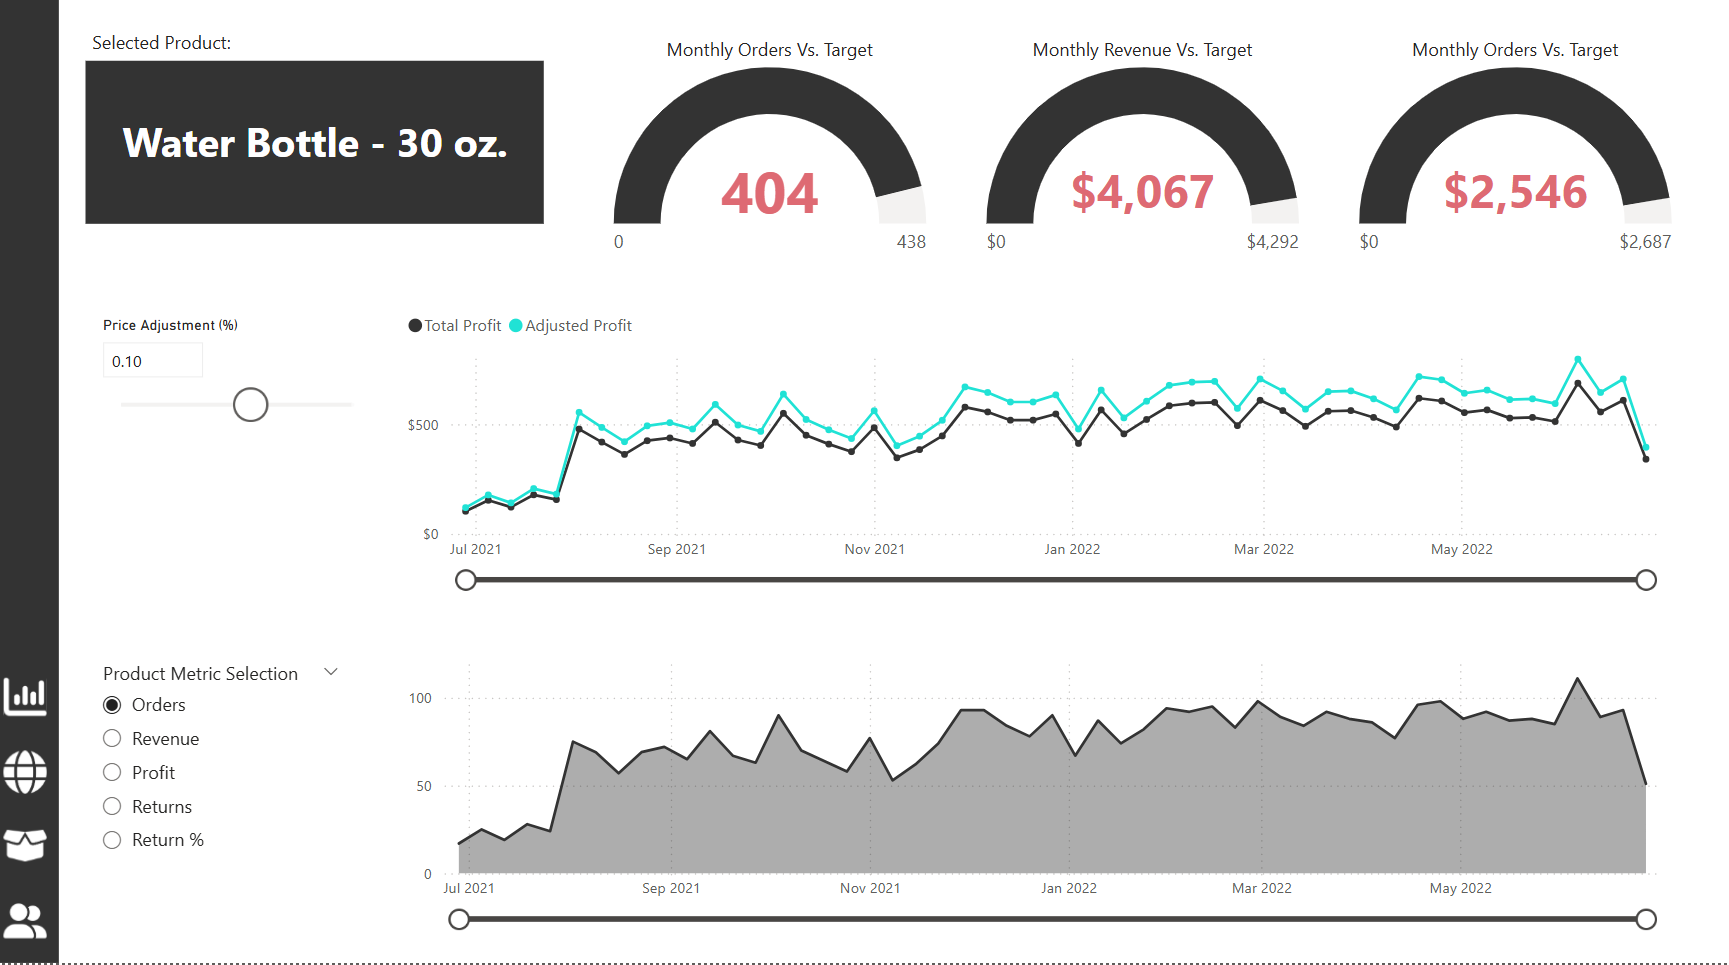

This screenshot's page, from the dashboard's own definition file:
{"tool":"powerbi","page":{"name":"Product Details","canvas":[1280,720],"ordinal":2},"visuals":[{"type":"shape","box":[0,1,45,719],"z":0},{"type":"gauge","title":"Monthly Orders Vs. Target","fields":{"Y":["Measure Table.Total Orders"],"MaxValue":["Measure Table.Order Target"]},"box":[445.5,34.5,251,171],"z":1000},{"type":"actionButton","box":[0,503.4,45.3,40.1],"z":2000},{"type":"gauge","title":"Monthly Orders Vs. Target","fields":{"Y":["Measure Table.Total Profit"],"MaxValue":["Measure Table.Profit Target"]},"box":[996.1,34.5,251,171],"z":3000},{"type":"actionButton","box":[0,558.6,45.3,40.1],"z":4000},{"type":"gauge","title":"Monthly Revenue Vs. Target","fields":{"Y":["Measure Table.Total Revenue"],"MaxValue":["Measure Table.Revenue Target"]},"box":[720.8,34.5,251,171],"z":5000},{"type":"actionButton","box":[0,613.8,45.3,40.1],"z":6000},{"type":"lineChart","title":"Profit Trending","fields":{"Category":["Calendar Lookup.Date Hierarchy.Start of Year","Calendar Lookup.Date Hierarchy.Start of Month","Calendar Lookup.Date Hierarchy.Start of Week","Calendar Lookup.Date Hierarchy.Date"],"Y":["Measure Table.Total Profit","Measure Table.Adjusted Profit"]},"box":[297.6,229,949.8,218.7],"z":7000},{"type":"actionButton","box":[0,669,45.3,40.1],"z":8000},{"type":"areaChart","title":"Returns Trending","fields":{"Y":["Measure Table.Total Orders"],"Category":["Calendar Lookup.Date Hierarchy.Start of Year","Calendar Lookup.Date Hierarchy.Start of Month","Calendar Lookup.Date Hierarchy.Start of Week","Calendar Lookup.Date Hierarchy.Date"]},"box":[297.6,483.9,949.8,214.8],"z":9000},{"type":"card","fields":{"Values":["Min(Product Lookup.ProductName)"]},"box":[64.7,53.1,339,120.3],"z":10000},{"type":"textbox","box":[64.7,24.6,169.5,28.5],"z":11000},{"type":"slicer","fields":{"Values":["Price Adjustment (%).Price Adjustment (%)"]},"box":[64.7,236.8,220,102.2],"z":12000},{"type":"slicer","fields":{"Values":["Product Metric Selection.Product Metric Selection"]},"box":[64.7,491.7,199.3,174.7],"z":13000}]}

Visuals, with their boxes on the page's 1280x720 design canvas (x1, y1, x2, y2). These are canvas units, not pixel positions in the 1729x965 screenshot, which may show the page scaled, cropped or inside an application window:
shape: (x1=0, y1=1, x2=45, y2=720)
"Monthly Orders Vs. Target" gauge: (x1=446, y1=34, x2=696, y2=206)
actionButton: (x1=0, y1=503, x2=45, y2=544)
"Monthly Orders Vs. Target" gauge: (x1=996, y1=34, x2=1247, y2=206)
actionButton: (x1=0, y1=559, x2=45, y2=599)
"Monthly Revenue Vs. Target" gauge: (x1=721, y1=34, x2=972, y2=206)
actionButton: (x1=0, y1=614, x2=45, y2=654)
"Profit Trending" lineChart: (x1=298, y1=229, x2=1247, y2=448)
actionButton: (x1=0, y1=669, x2=45, y2=709)
"Returns Trending" areaChart: (x1=298, y1=484, x2=1247, y2=699)
card - Min(Product Lookup.ProductName): (x1=65, y1=53, x2=404, y2=173)
textbox: (x1=65, y1=25, x2=234, y2=53)
slicer - Price Adjustment (%).Price Adjustment (%): (x1=65, y1=237, x2=285, y2=339)
slicer - Product Metric Selection.Product Metric Selection: (x1=65, y1=492, x2=264, y2=666)
